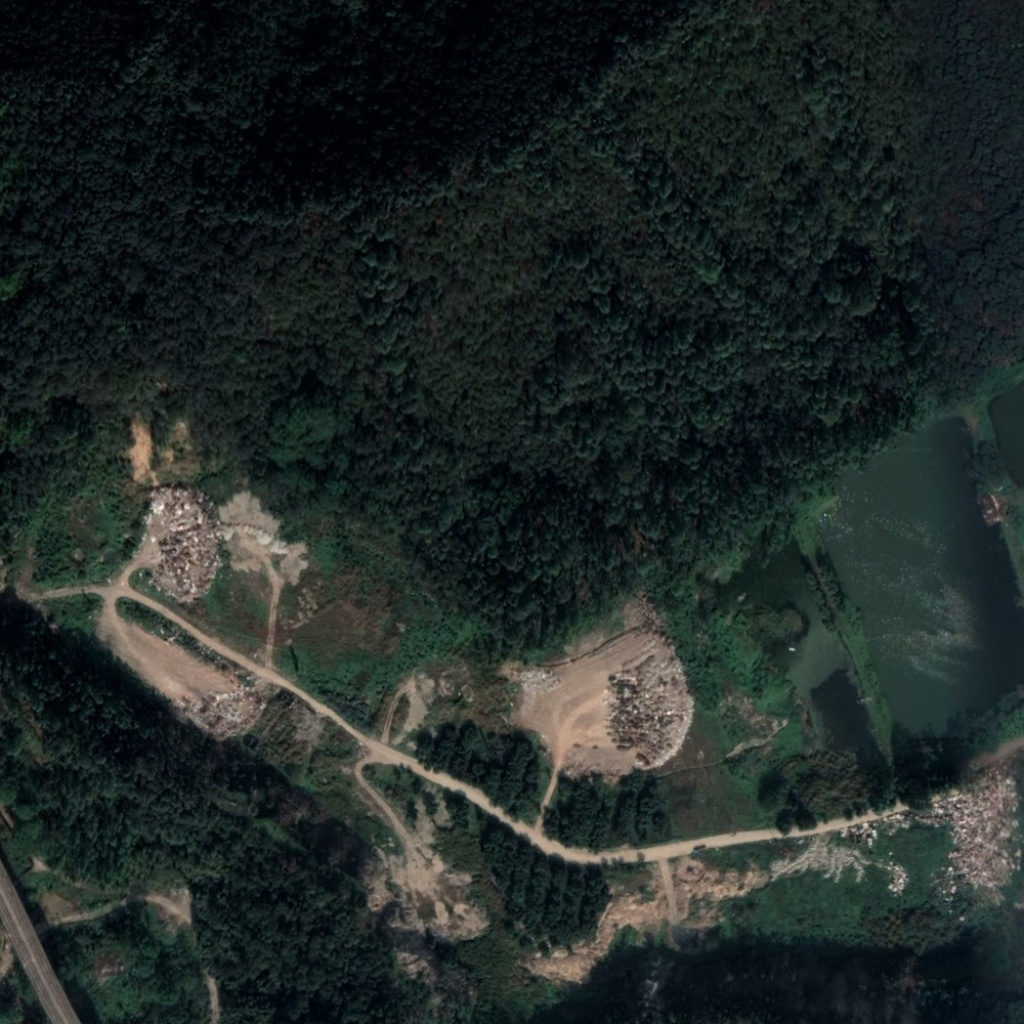agriculture forestry: (605, 660, 694, 764), (942, 773, 1019, 888), (141, 484, 217, 600), (174, 685, 269, 741)
domestic garbage: (516, 662, 563, 696)
